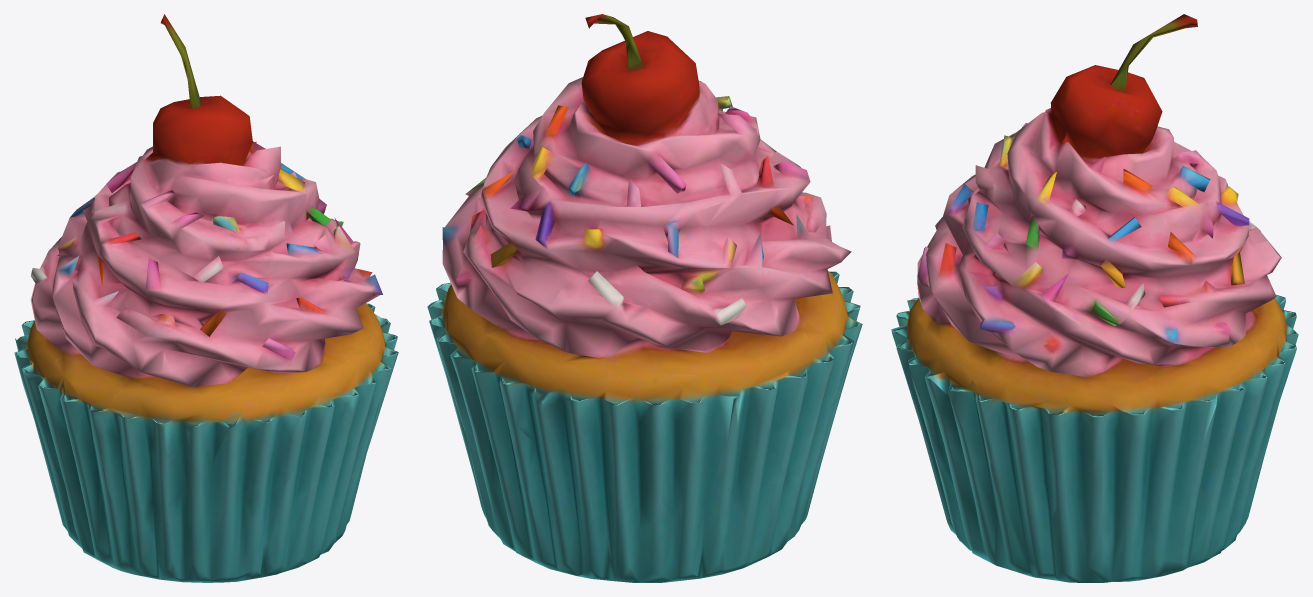
File: SM_Kitchen_Cupcake.glb
3 renders of one model, left to right at view 1: azimuth 30°, elevation 25°; view 2: azimuth 150°, elevation 25°; view 3: azimuth 270°, elevation 25°, orthographic. The views are drawn at different scales.
Visible parts, largest first — view 1: tripo_node_023a6cae-7302-4bc5-9234-ee976c3e4c62; view 2: tripo_node_023a6cae-7302-4bc5-9234-ee976c3e4c62; view 3: tripo_node_023a6cae-7302-4bc5-9234-ee976c3e4c62.
Boxes of the visible parts, x1,y1,x2,y2 form: tripo_node_023a6cae-7302-4bc5-9234-ee976c3e4c62: [14, 14, 398, 582]; tripo_node_023a6cae-7302-4bc5-9234-ee976c3e4c62: [427, 14, 862, 582]; tripo_node_023a6cae-7302-4bc5-9234-ee976c3e4c62: [891, 14, 1298, 582].
Size of the model in its own units: 0.7268 by 1 by 0.7243.
Materials: 1 (1 with a texture image).
